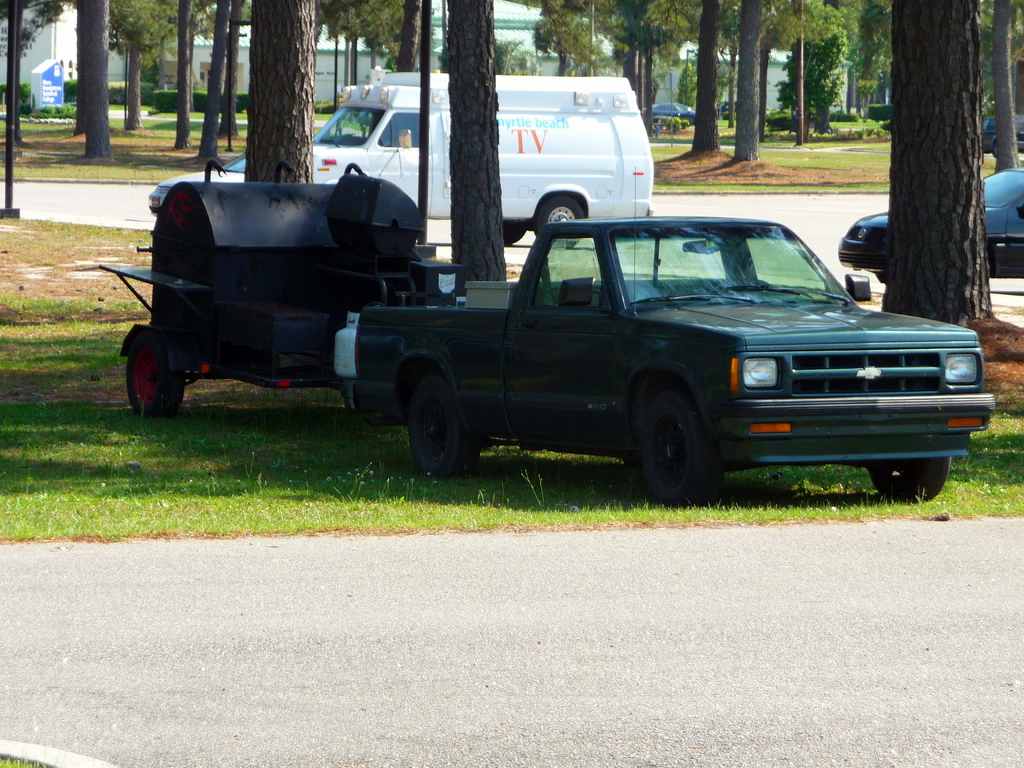Car: (286, 202, 989, 504), (837, 165, 1023, 284), (978, 115, 1023, 152), (648, 99, 698, 129)
